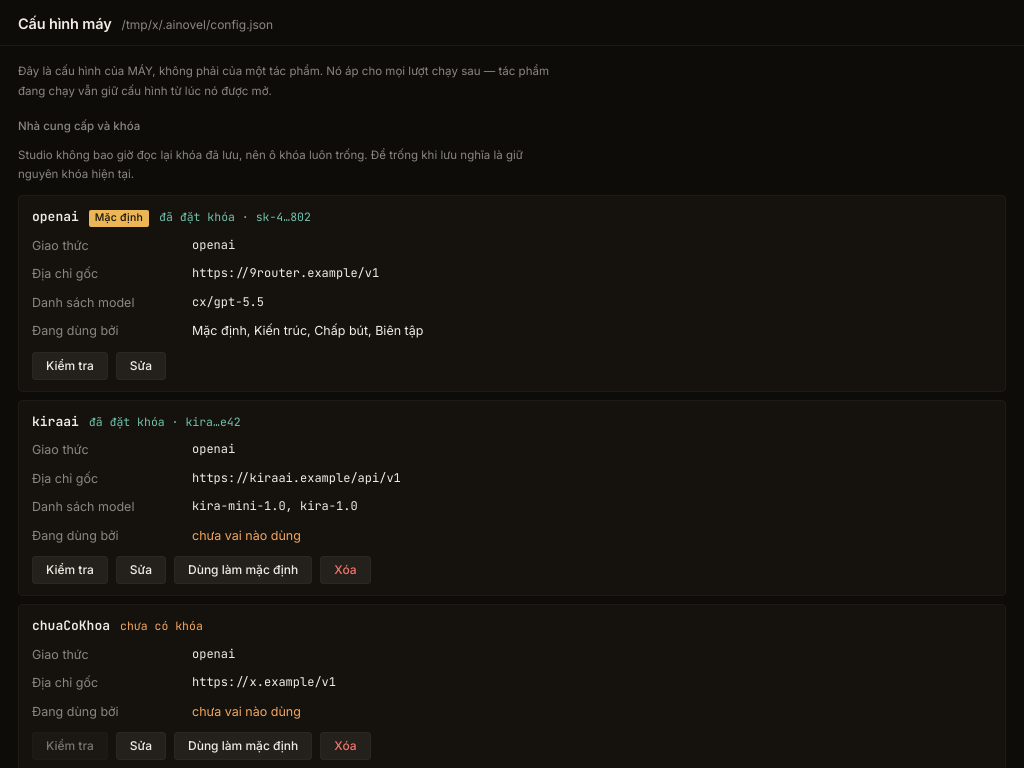
Scenario: không vai nào đặt riêng thì VẪN hỏi, và chỉ có HAI lối ra
Expected: the list item with class "nccMuc" that starts with "kiraai" is shown, [18,400,1006,596]
Click the button "Dùng làm mặc định" below "đã đặt khóa · kira…e42": (243, 570) [174,556,312,584]
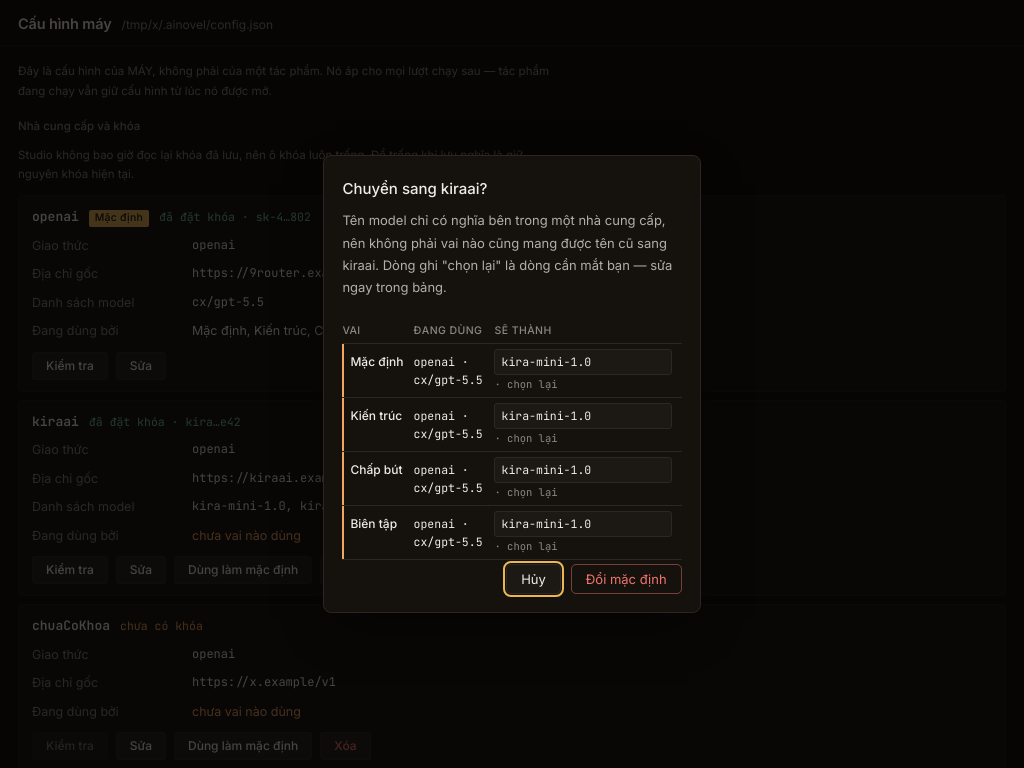
Expected: the dialog is shown, [323,155,701,614]
